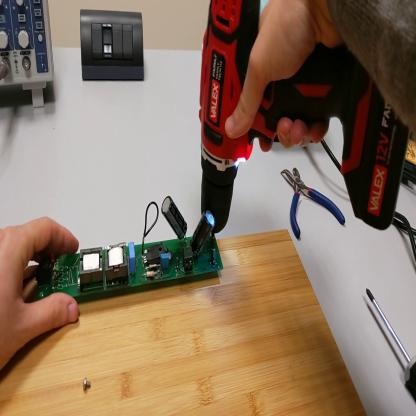electric screwdriver: (198, 1, 413, 289)
hand: (221, 2, 336, 155), (2, 218, 80, 369)
high voltage board: (25, 192, 228, 310)
oscilloscope: (2, 2, 56, 107)
pliers: (281, 169, 348, 243)
screwdriver-: (366, 284, 416, 403)
working area: (1, 226, 368, 416)
